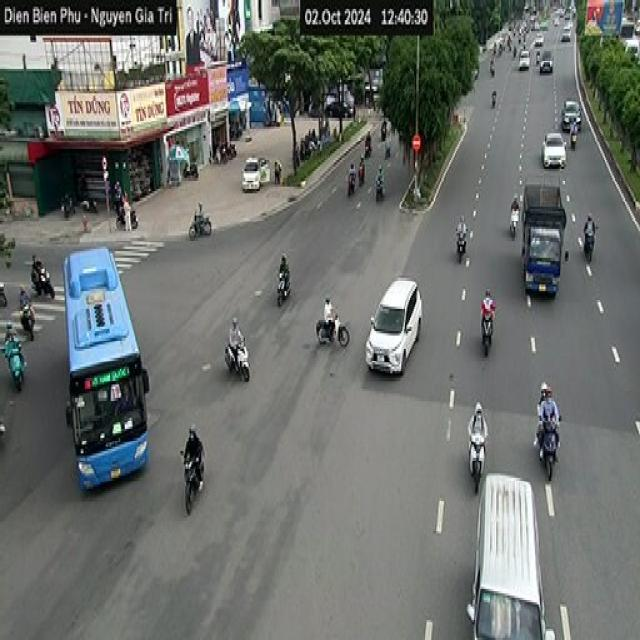bus: (61, 244, 150, 493)
car: (478, 471, 543, 640), (365, 276, 423, 376), (241, 154, 267, 191), (542, 131, 566, 167), (561, 98, 581, 131), (538, 49, 552, 73), (518, 49, 530, 69)
motorcycle: (535, 416, 560, 480), (180, 447, 204, 513), (2, 338, 26, 389), (468, 427, 487, 491), (315, 313, 349, 347), (224, 338, 250, 380), (33, 280, 57, 314), (187, 216, 217, 242), (563, 125, 582, 165), (582, 234, 600, 269), (276, 269, 292, 307), (19, 300, 35, 338), (480, 311, 492, 356), (455, 227, 466, 262), (509, 204, 519, 238), (347, 174, 359, 194)
person: (536, 382, 560, 460), (466, 400, 489, 473), (229, 315, 245, 369), (14, 278, 33, 316), (184, 419, 198, 470), (480, 289, 495, 335), (582, 213, 596, 258), (562, 102, 582, 133), (5, 327, 24, 359), (457, 197, 469, 244), (196, 193, 211, 227), (355, 157, 372, 186), (323, 296, 335, 336), (278, 253, 288, 291), (512, 182, 520, 223), (375, 164, 384, 200), (33, 252, 43, 278)
truck: (524, 182, 567, 311)
